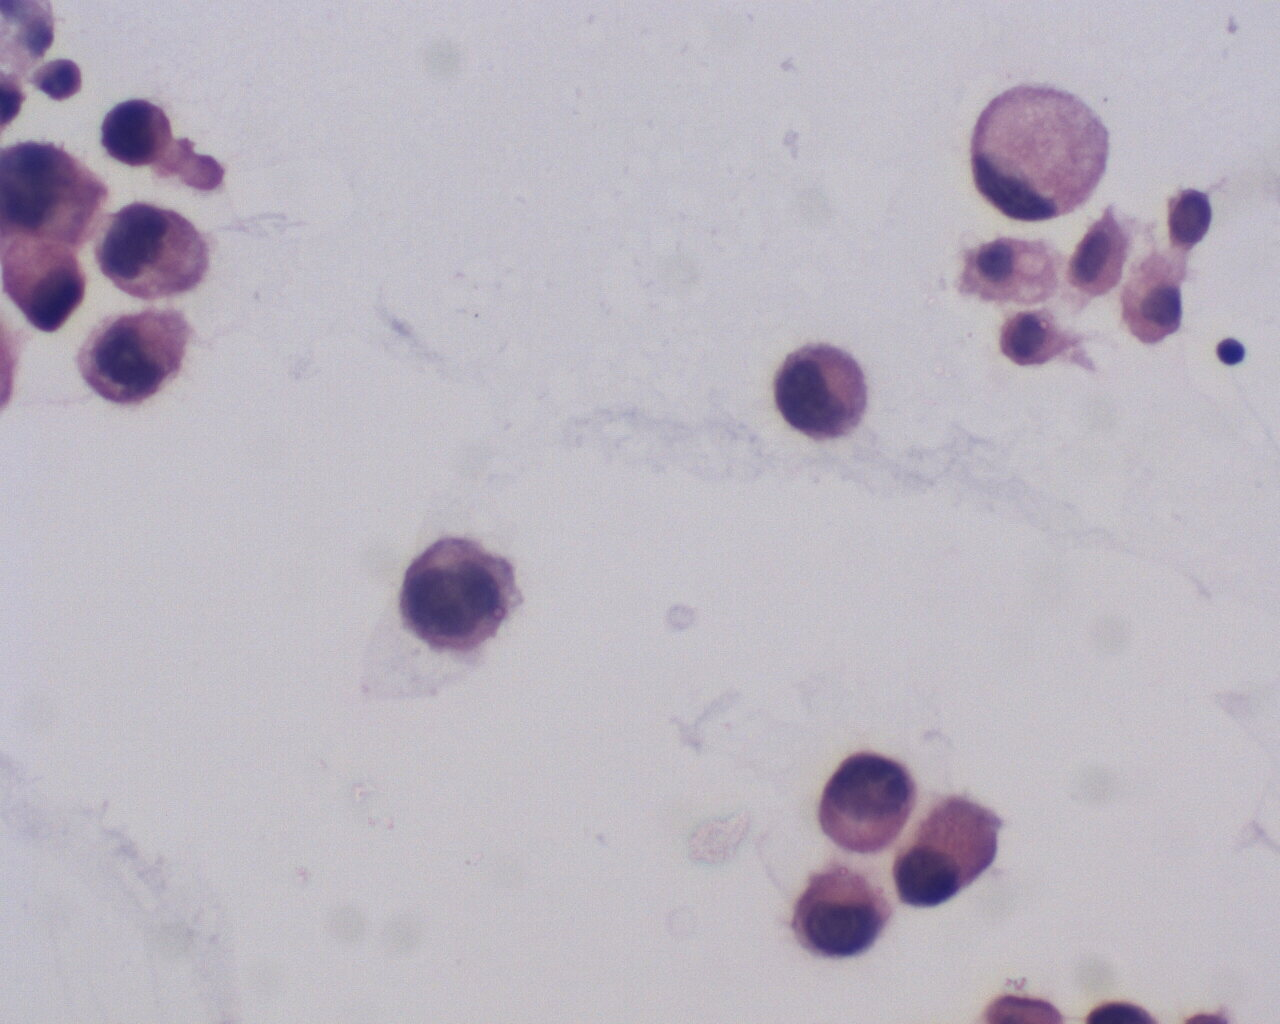ab: (396, 534, 529, 660), (97, 197, 220, 300), (894, 795, 1004, 910), (78, 305, 197, 408), (774, 340, 877, 450), (816, 745, 920, 854), (786, 863, 893, 962), (100, 94, 177, 167)
histo: (965, 70, 1111, 224)
